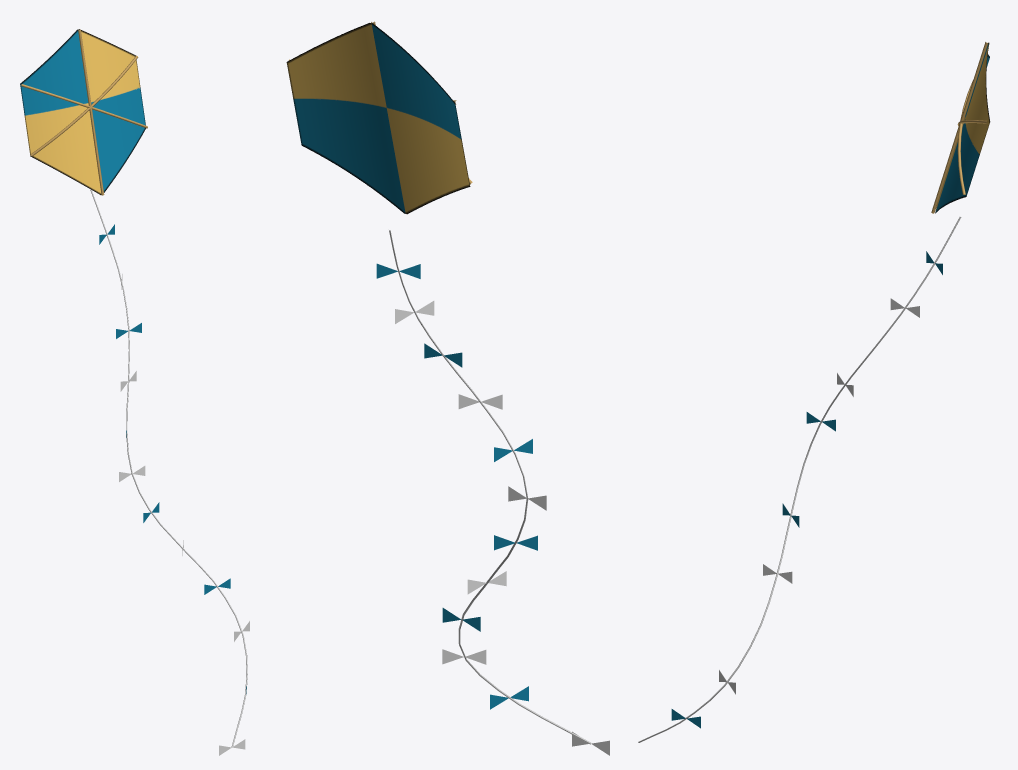
Rendered from raia-3.glb.
3 renders of one model, left to right at view 1: azimuth 30°, elevation 25°; view 2: azimuth 150°, elevation 25°; view 3: azimuth 270°, elevation 25°, orthographic. The views are drawn at different scales.
Parts seen in each view (by area): view 1: raia-3; view 2: raia-3; view 3: raia-3.
Boxes of the visible parts, left/top/right/bottom form: raia-3: left=20, top=29, right=249, bottom=755; raia-3: left=286, top=21, right=609, bottom=755; raia-3: left=638, top=42, right=990, bottom=742.
Bounding box in the file's own units: 1.19 × 5.81 × 2.73.
Materials: 5 (1 with a texture image).
